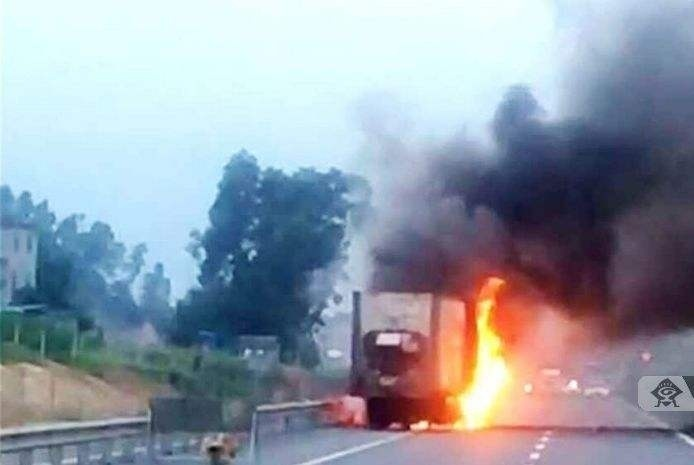fire: (446, 278, 512, 432)
